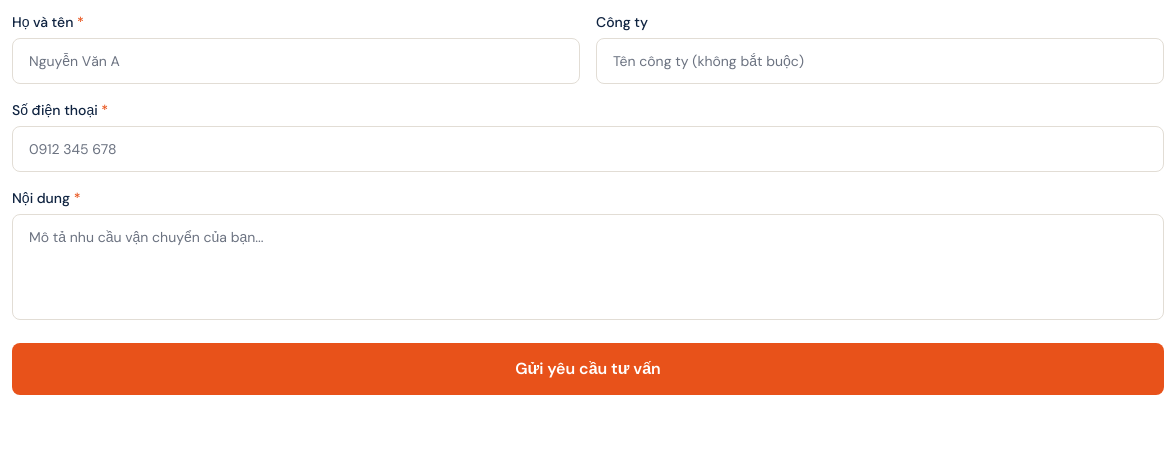
Test: ContactForm — validation › shows error when fullName < 2 chars
The image size is (1176, 472).
Type "A" into the field labelled "Họ và tên *".
click(296, 61); type("A")  # box [12,38,580,84]
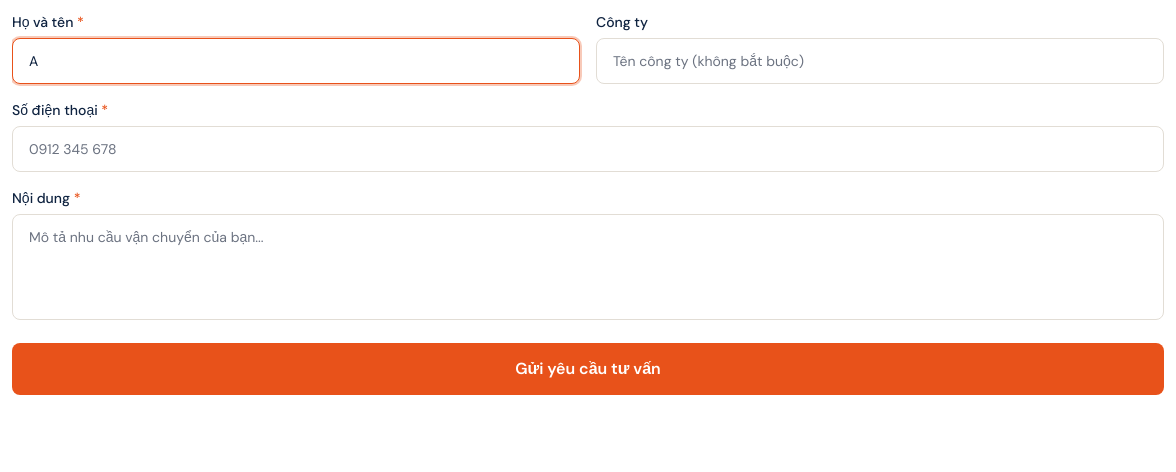
Click the button "Gửi yêu cầu tư vấn".
click(588, 369)  # box [12,343,1164,395]
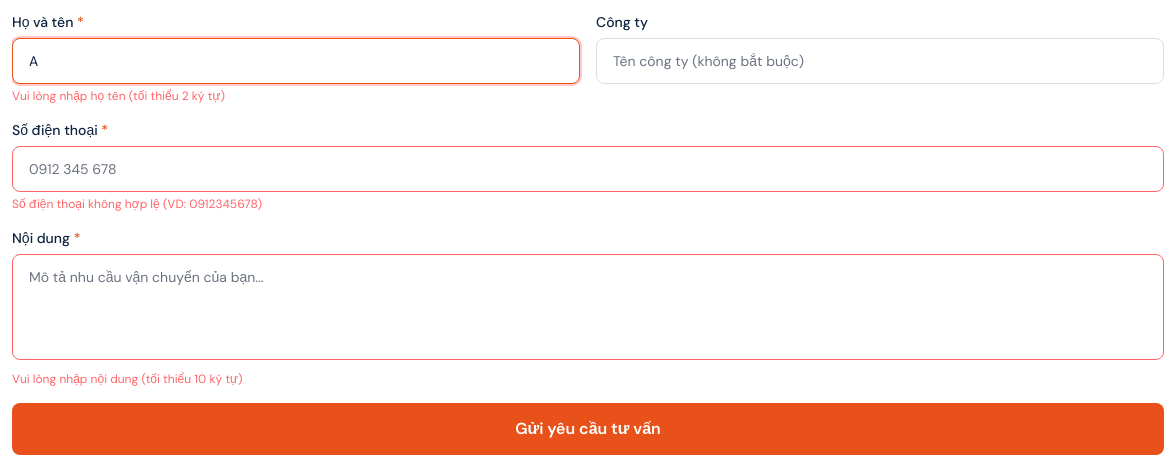
Expected: the text "Vui lòng nhập họ tên (tối thiểu 2 ký tự)" is shown, [12,88,225,104]
